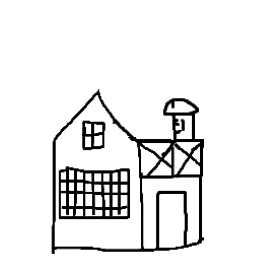bottom_placed_house: (0, 0, 260, 260)
chimney: (158, 92, 204, 146)
closed_window: (55, 160, 133, 222), (79, 119, 110, 154)
door: (153, 182, 187, 255)
roof: (40, 84, 216, 175)
wall: (43, 86, 146, 253)
